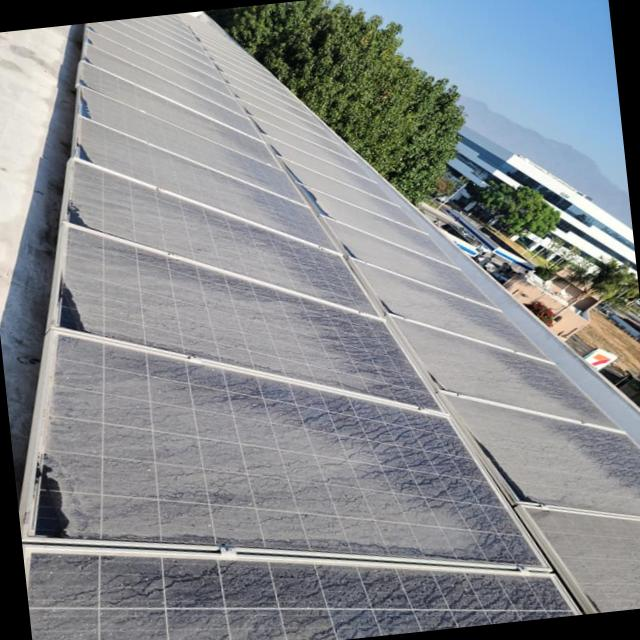faulty: (41, 30, 640, 640)
